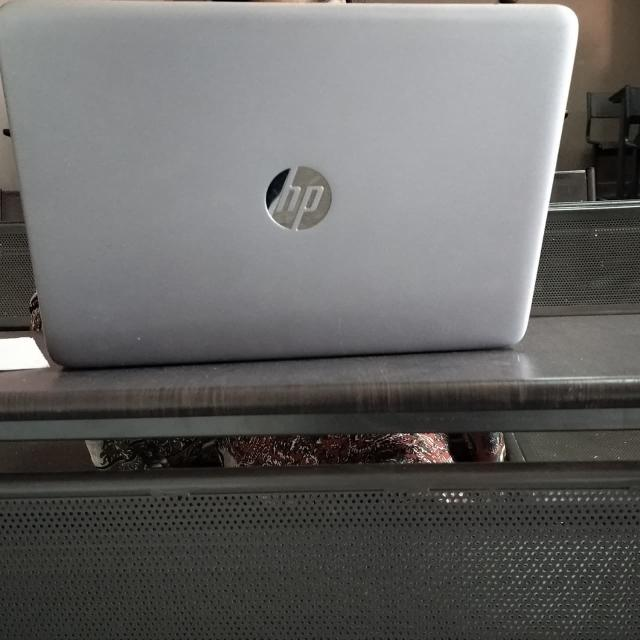laptop: (5, 1, 612, 386)
